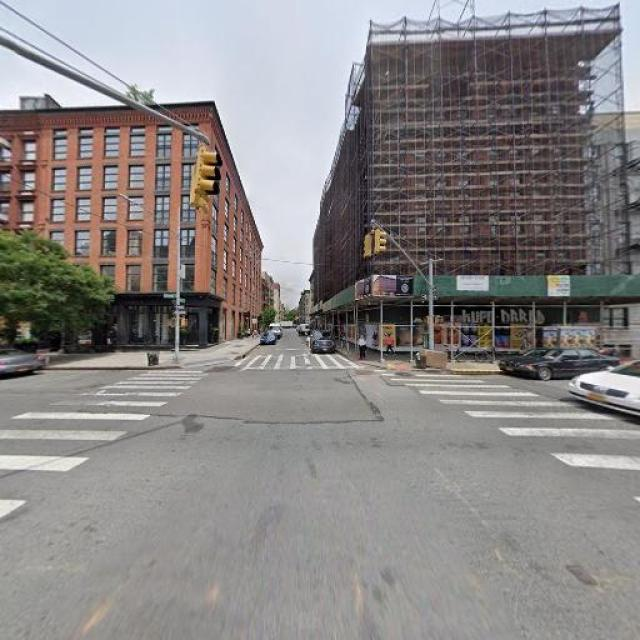Building: (315, 27, 593, 353), (1, 104, 259, 348), (597, 112, 640, 353)
